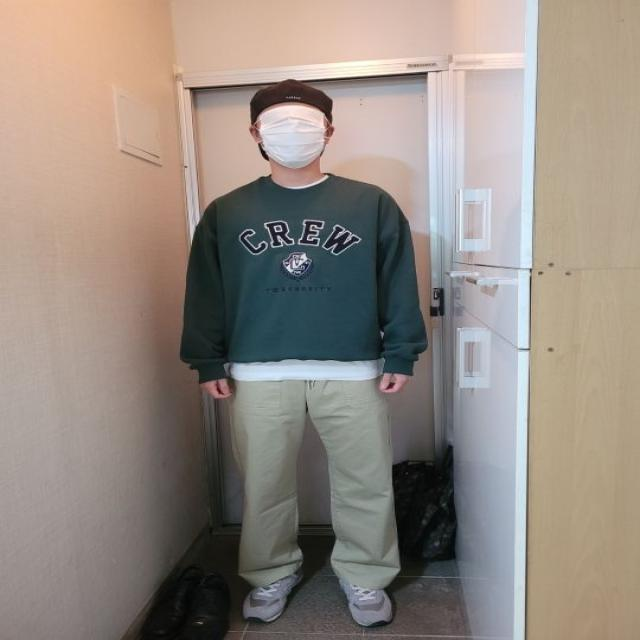cottonpants: (229, 375, 399, 591)
mtm: (182, 175, 430, 380)
